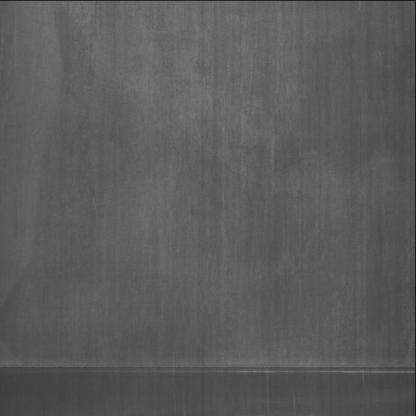welding_line: (0, 348, 414, 390)
